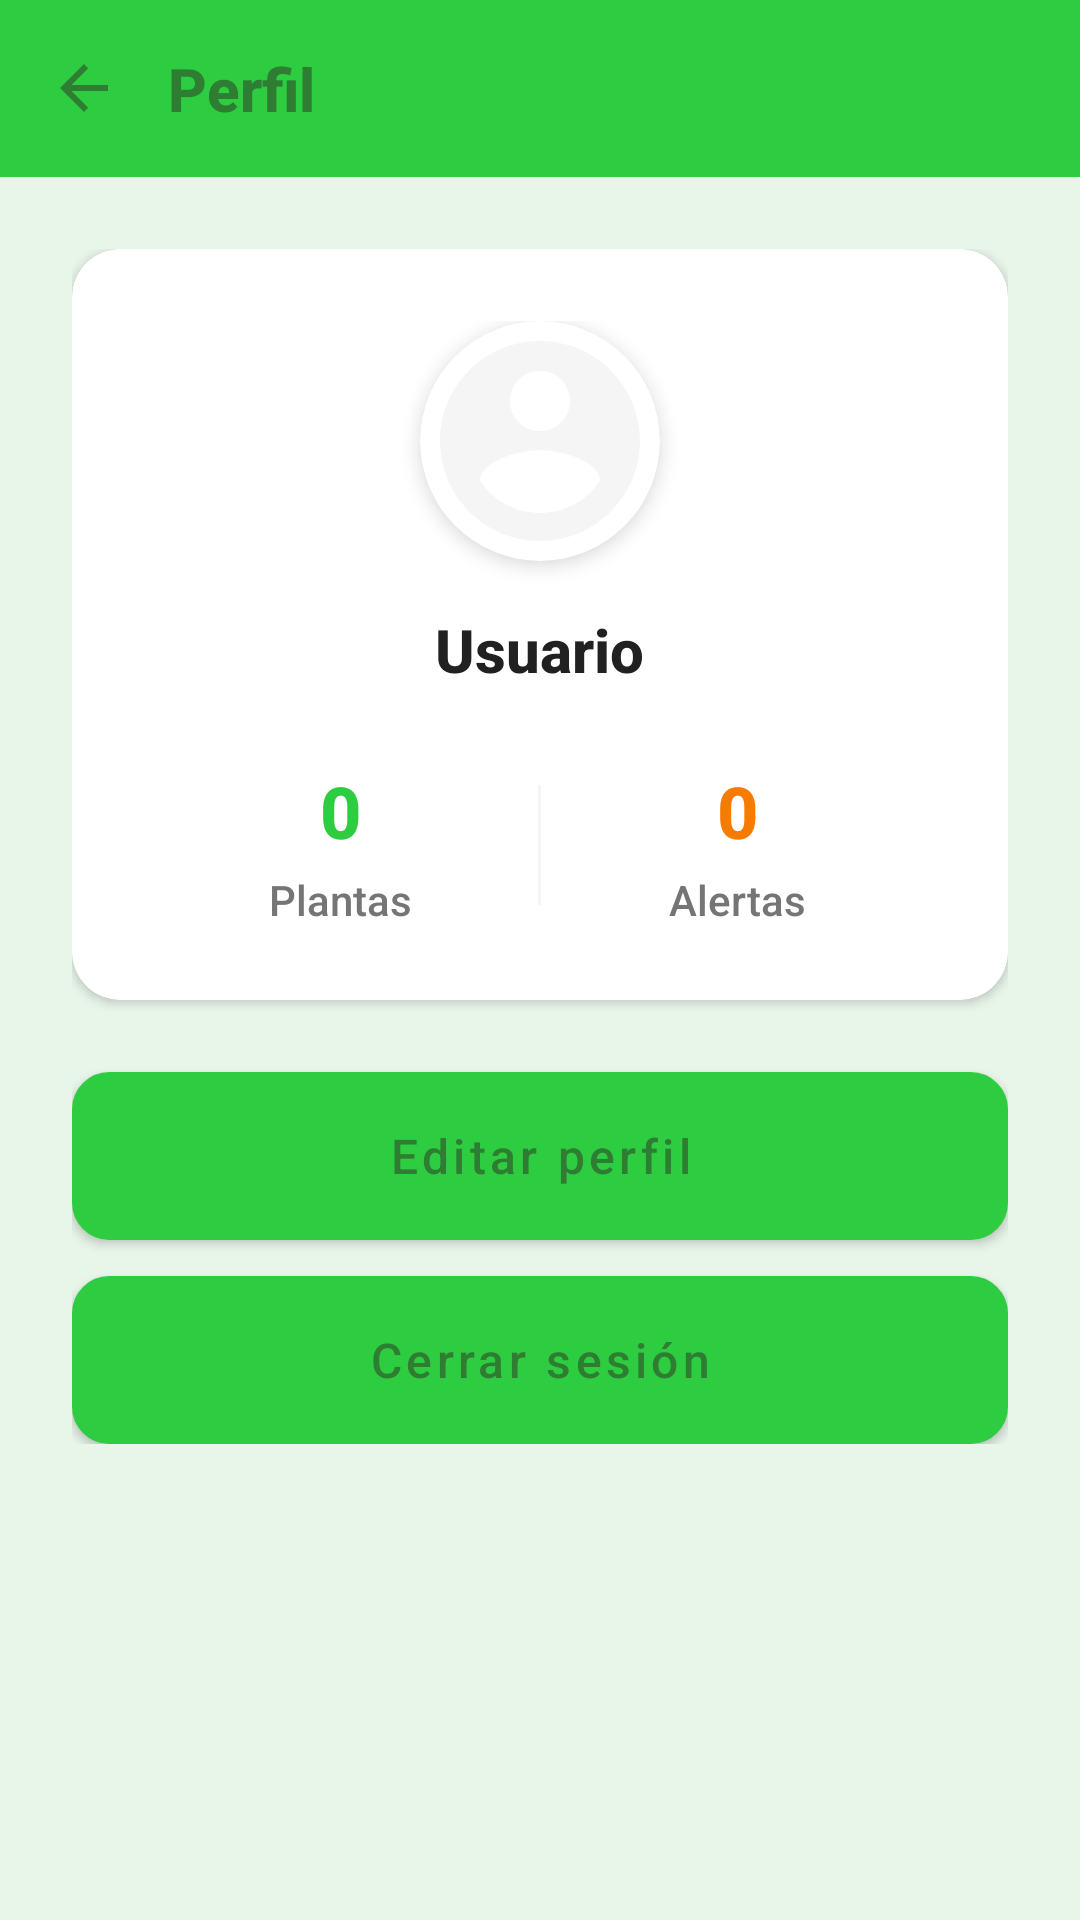

Named icons in this screenshot (1080*1920) and their centers, point (x, y):
Volver: point (84, 88)
